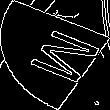M_SE: (10, 23, 100, 87)
